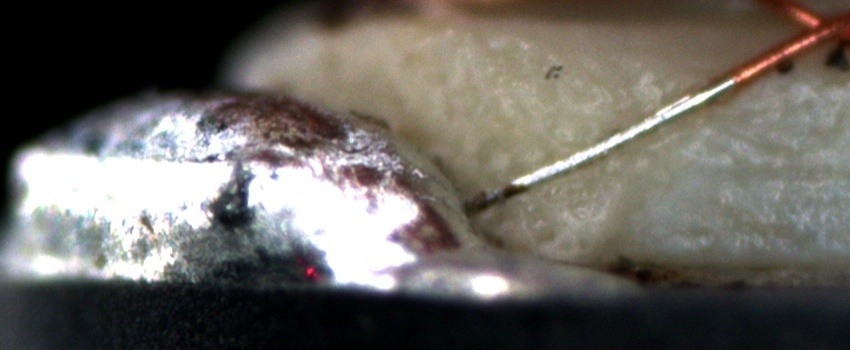CL: (773, 4, 847, 60)
DL: (637, 135, 850, 199)
TS: (463, 75, 736, 212)
